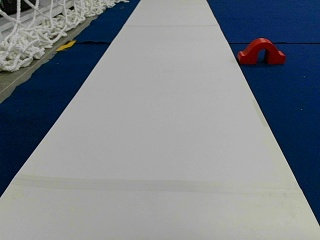bridge: (238, 38, 284, 63)
